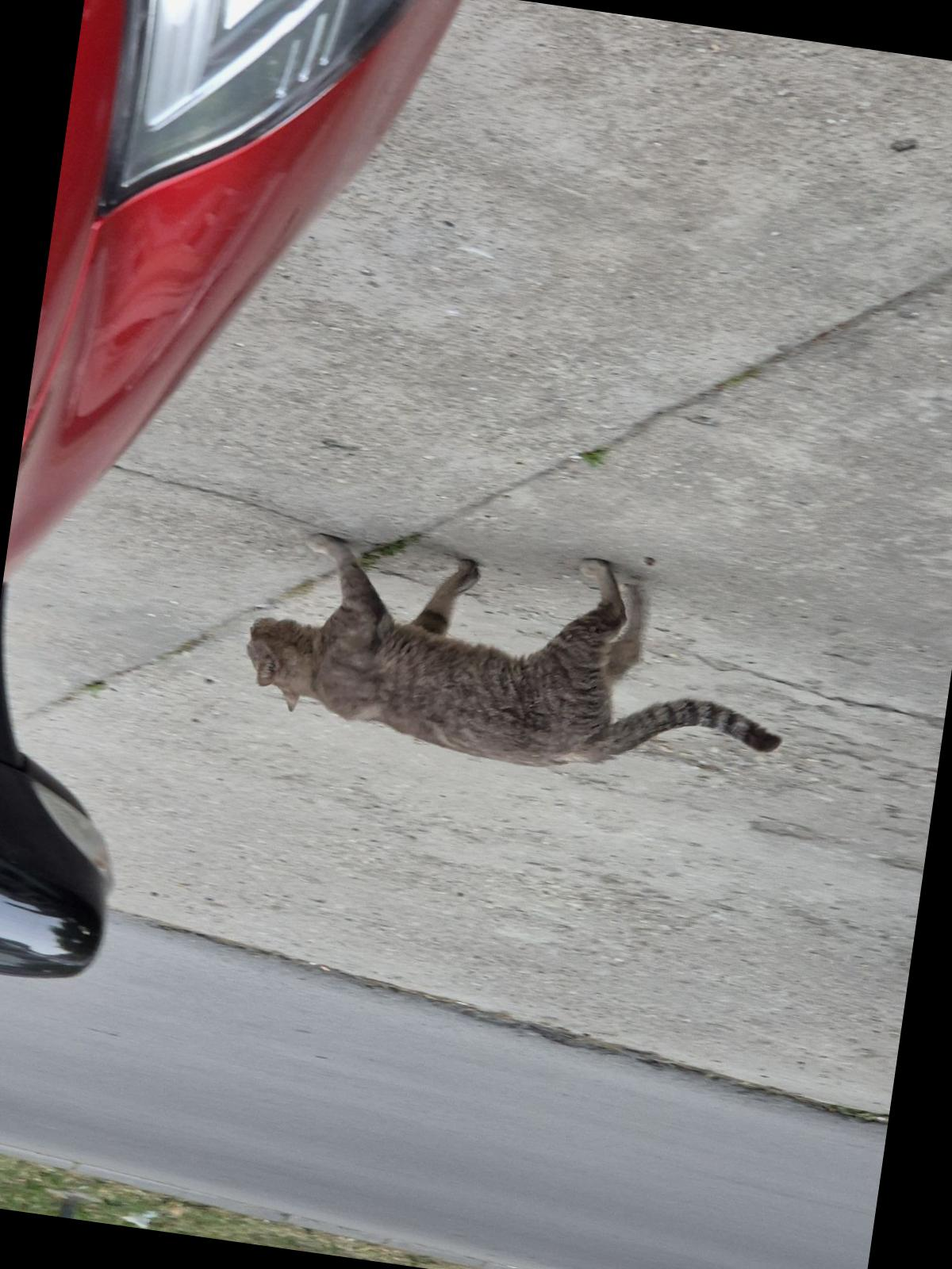macka: (236, 510, 804, 799)
